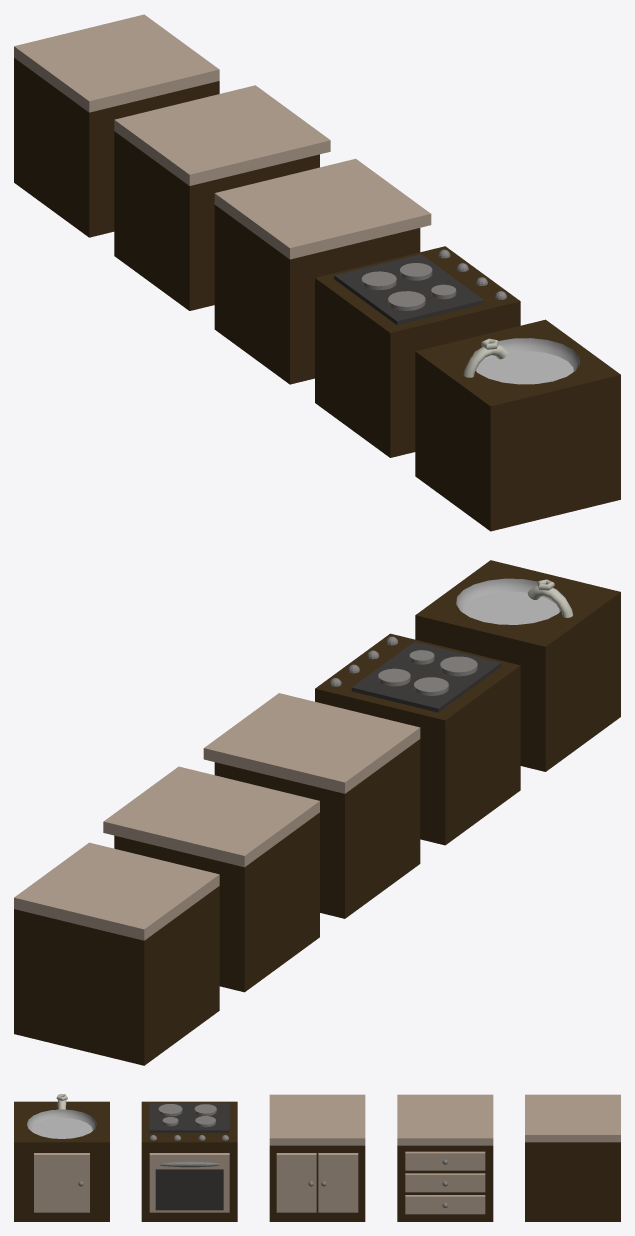
The model's file is KitchenCounters.fbx.
The picture shows the model from 3 angles, top to bottom: view 1: azimuth 30°, elevation 25°; view 2: azimuth 150°, elevation 25°; view 3: azimuth 270°, elevation 25°; orthographic projection. The views are drawn at different scales.
Visible parts, largest first — view 1: CounterBody (×5), CounterTop (×3), HobGlass, Water; view 2: CounterBody (×5), CounterTop (×3), HobGlass, Water; view 3: CounterBody (×5), CounterTop (×3), CounterCupboard1 (×3), CounterCupboard, OvenGlass, CounterCupboard2, HobGlass, CounterCupboard3, CounterCupboard4, Water, Handle1, Hob1 (+2 smaller).
Part boxes in pixels (x1=…): CounterBody (×5): x1=14, y1=58, x2=620, y2=531; CounterTop (×3): x1=14, y1=14, x2=431, y2=259; HobGlass: x1=334, y1=254, x2=483, y2=325; Water: x1=476, y1=351, x2=573, y2=384; CounterBody (×5): x1=14, y1=560, x2=620, y2=1065; CounterTop (×3): x1=14, y1=693, x2=420, y2=940; HobGlass: x1=351, y1=641, x2=501, y2=712; Water: x1=462, y1=591, x2=559, y2=624; CounterBody (×5): x1=14, y1=1101, x2=620, y2=1221; CounterTop (×3): x1=269, y1=1094, x2=620, y2=1145; CounterCupboard1 (×3): x1=149, y1=1151, x2=485, y2=1212; CounterCupboard: x1=34, y1=1153, x2=89, y2=1212; OvenGlass: x1=155, y1=1169, x2=223, y2=1210; CounterCupboard2: x1=318, y1=1153, x2=358, y2=1212; HobGlass: x1=149, y1=1103, x2=229, y2=1132; CounterCupboard3: x1=405, y1=1173, x2=485, y2=1192; CounterCupboard4: x1=405, y1=1195, x2=485, y2=1214; Water: x1=31, y1=1117, x2=92, y2=1138; Handle1: x1=159, y1=1161, x2=219, y2=1167; Hob1: x1=158, y1=1104, x2=182, y2=1116.
Size of the model in its own units: 650 by 674 by 3800.
